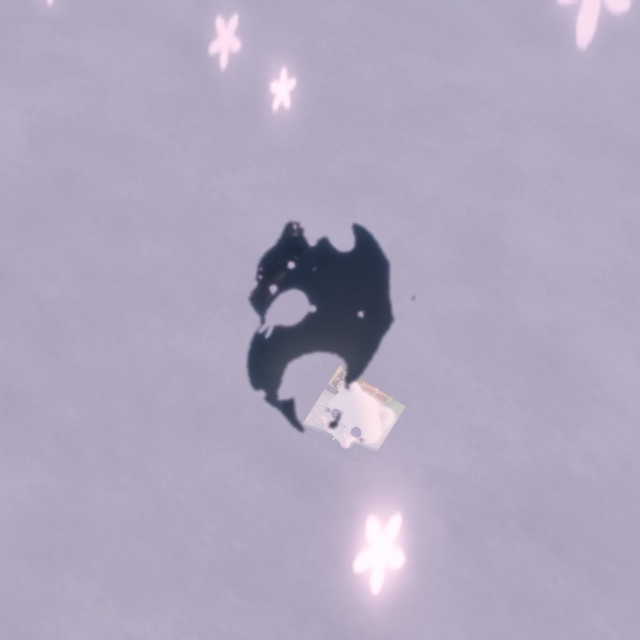urso_branco: (300, 365, 406, 469)
urso_preto: (175, 156, 461, 486)
